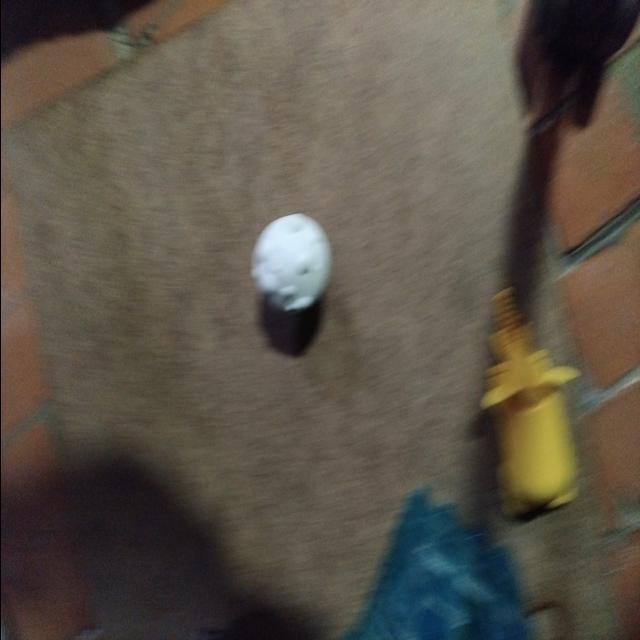Hongo: (242, 190, 336, 338)
